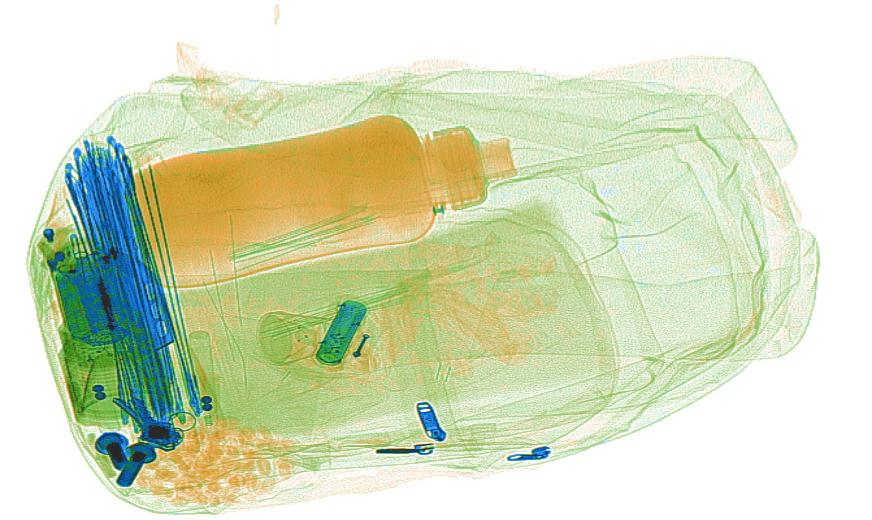battery: (53, 252, 131, 348), (314, 296, 367, 367)
